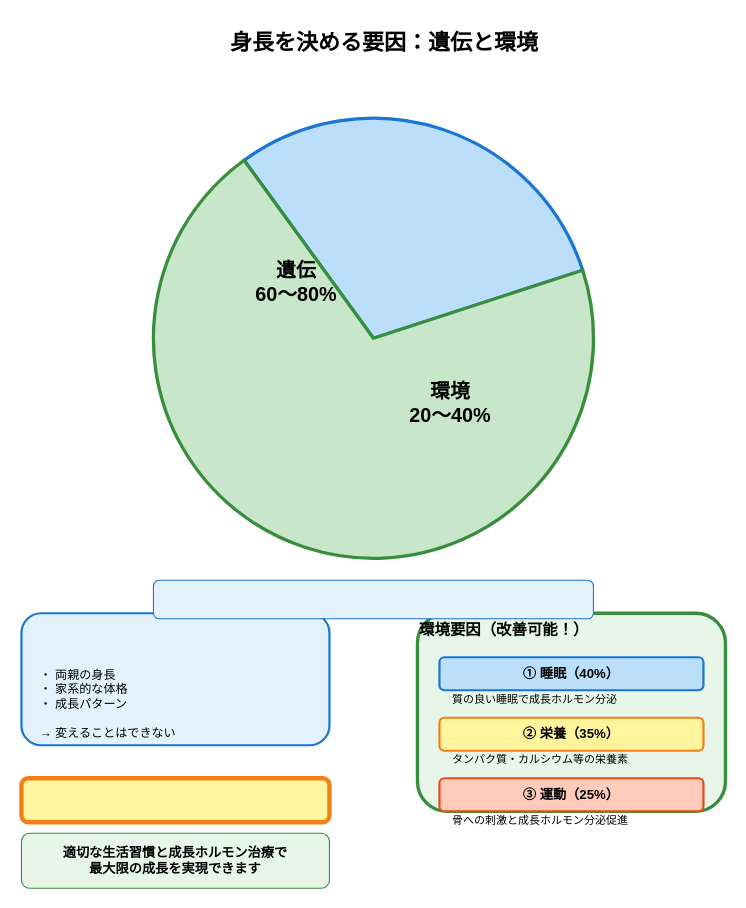
This 746x908 diagram has some shape labels left out. Each missing label, with the box of its shape:
※研究により、身長の60～80%は遺伝で決まり、 残り20～40%は環境要因で変わると報告されています: (152, 579, 593, 619)
環境要因は改善できる！: (19, 776, 331, 824)
遺伝要因: (20, 612, 330, 746)
